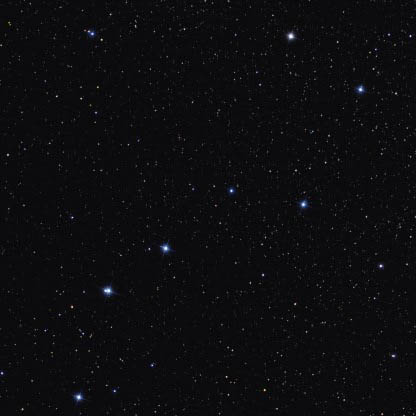Ursa Major: (351, 80, 382, 108), (282, 26, 310, 54), (65, 384, 91, 407), (96, 281, 120, 301), (153, 239, 176, 258), (291, 192, 308, 213), (221, 182, 239, 198)
